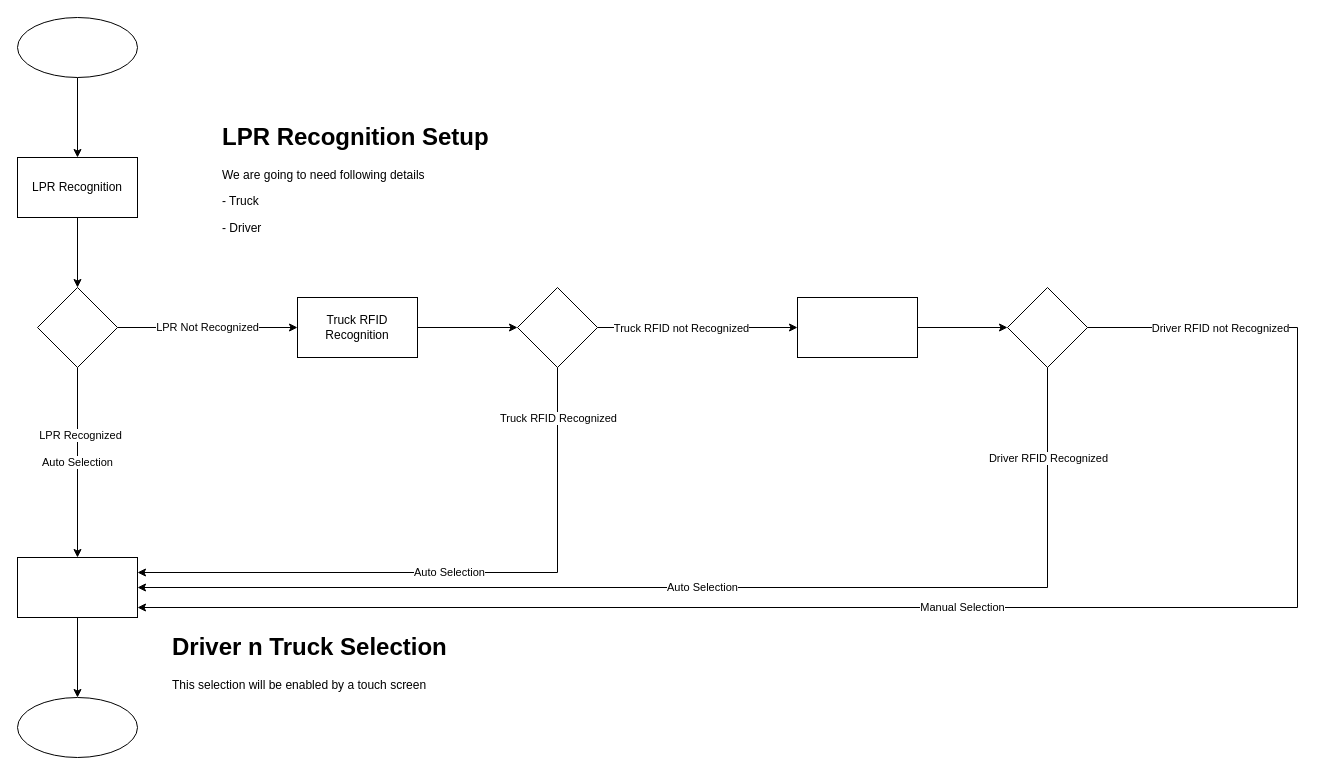
Image size: 1323x775. Some labels were removed from this diagram. The centre of each missing label's shape, as x and y in pixels:
Driver n Truck Selection: the point at 77,587
Driver RFID Recognition: the point at 857,327
